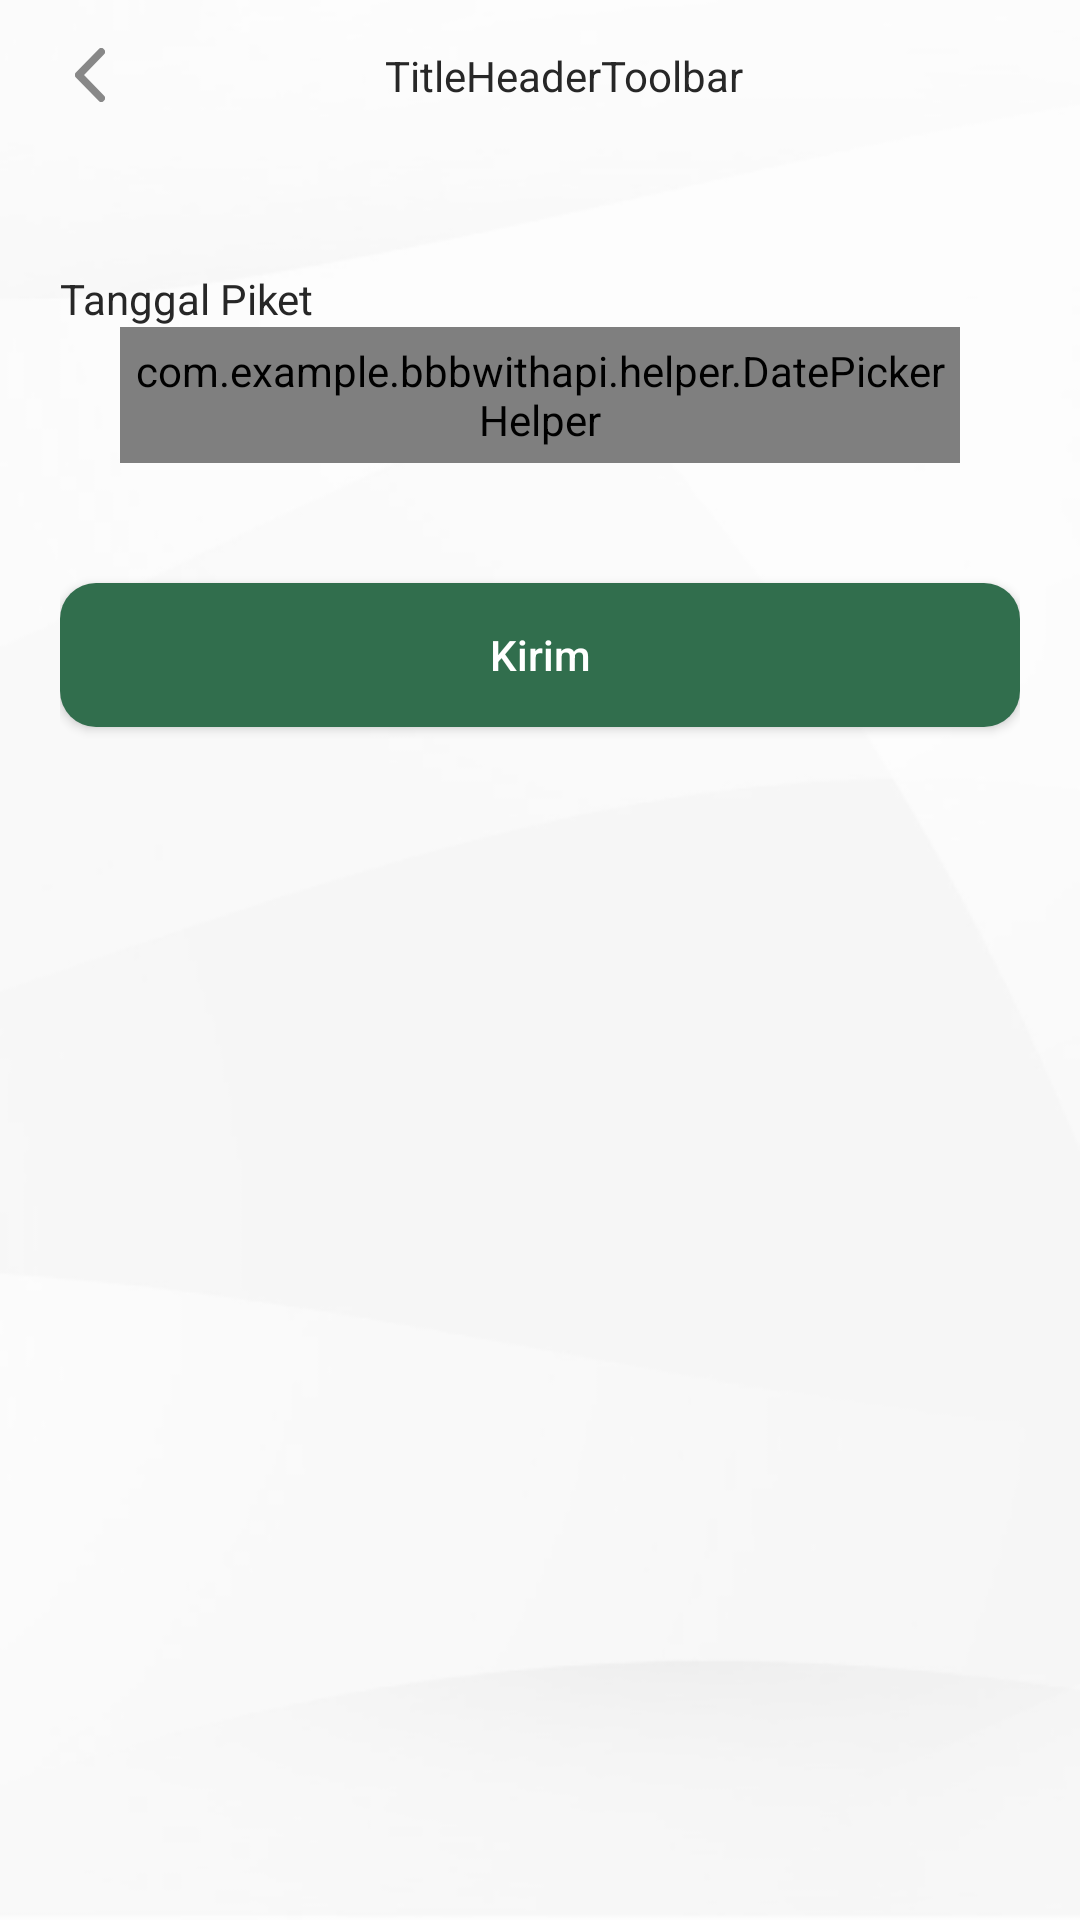

Where icons sit on this 1080x1920 app screen, as (x1, y1, x2, y2):
back: (75, 48, 105, 102)
